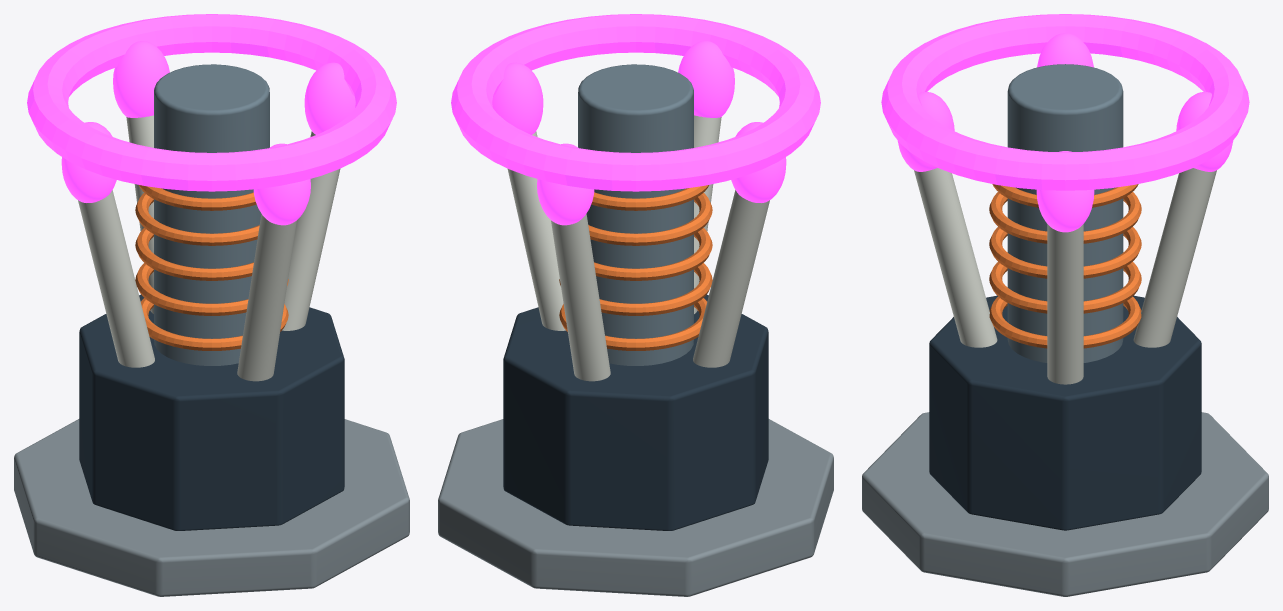
Rendered from GridPylon.fbx.
The picture shows the model from 3 angles, left to right: view 1: azimuth 30°, elevation 25°; view 2: azimuth 150°, elevation 25°; view 3: azimuth 270°, elevation 25°; orthographic projection.
Parts seen in each view (by area): view 1: Switchgear pedestal, Pylon plinth, Jamming resonator, Interference column, Ceramic isolator.002, Ceramic isolator.003, Ceramic isolator, Emitter tip.001, Emitter tip, Emitter tip.003, Insulated bus coil.004, Insulated bus coil.003 (+5 smaller); view 2: Switchgear pedestal, Pylon plinth, Jamming resonator, Interference column, Ceramic isolator.002, Ceramic isolator.001, Ceramic isolator, Emitter tip.003, Emitter tip, Emitter tip.001, Insulated bus coil.004, Insulated bus coil.003 (+5 smaller); view 3: Switchgear pedestal, Pylon plinth, Jamming resonator, Interference column, Ceramic isolator.001, Ceramic isolator.003, Ceramic isolator, Insulated bus coil.001, Insulated bus coil.002, Insulated bus coil.003, Insulated bus coil.004, Emitter tip (+4 smaller).
Boxes of the visible parts, box(x1,y1,x2,y2) form: Switchgear pedestal: box(79, 294, 344, 530); Pylon plinth: box(14, 419, 409, 596); Jamming resonator: box(27, 14, 396, 191); Interference column: box(154, 64, 269, 365); Ceramic isolator.002: box(78, 190, 154, 367); Ceramic isolator.003: box(237, 214, 296, 381); Ceramic isolator: box(282, 131, 340, 330); Emitter tip.001: box(113, 41, 169, 117); Emitter tip: box(304, 62, 355, 134); Emitter tip.003: box(253, 143, 310, 225); Insulated bus coil.004: box(135, 193, 259, 245); Insulated bus coil.003: box(135, 228, 253, 280); Switchgear pedestal: box(503, 294, 768, 530); Pylon plinth: box(438, 419, 833, 596); Jamming resonator: box(451, 14, 820, 191); Interference column: box(578, 64, 693, 365); Ceramic isolator.002: box(693, 190, 769, 367); Ceramic isolator.001: box(551, 214, 610, 381); Ceramic isolator: box(507, 131, 565, 330); Emitter tip.003: box(678, 41, 734, 117); Emitter tip: box(492, 62, 543, 134); Emitter tip.001: box(537, 143, 594, 225); Insulated bus coil.004: box(588, 193, 712, 245); Insulated bus coil.003: box(594, 228, 712, 280); Switchgear pedestal: box(929, 295, 1201, 530); Pylon plinth: box(862, 412, 1268, 596); Jamming resonator: box(881, 14, 1249, 190); Interference column: box(1007, 64, 1123, 362); Ceramic isolator.001: box(1133, 168, 1216, 347); Ceramic isolator.003: box(914, 168, 997, 347); Ceramic isolator: box(1047, 224, 1083, 384); Insulated bus coil.001: box(989, 296, 1141, 348); Insulated bus coil.002: box(989, 261, 1141, 313); Insulated bus coil.003: box(989, 227, 1141, 278); Insulated bus coil.004: box(989, 192, 1141, 243); Emitter tip: box(1036, 151, 1094, 232).
Bounding box in the file's own units: 169 × 196 × 169.
